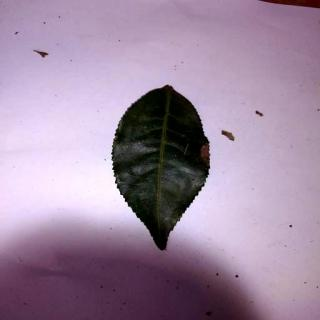Anthracnose: (114, 86, 213, 248)
